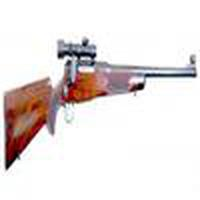gun: (5, 37, 193, 177)
